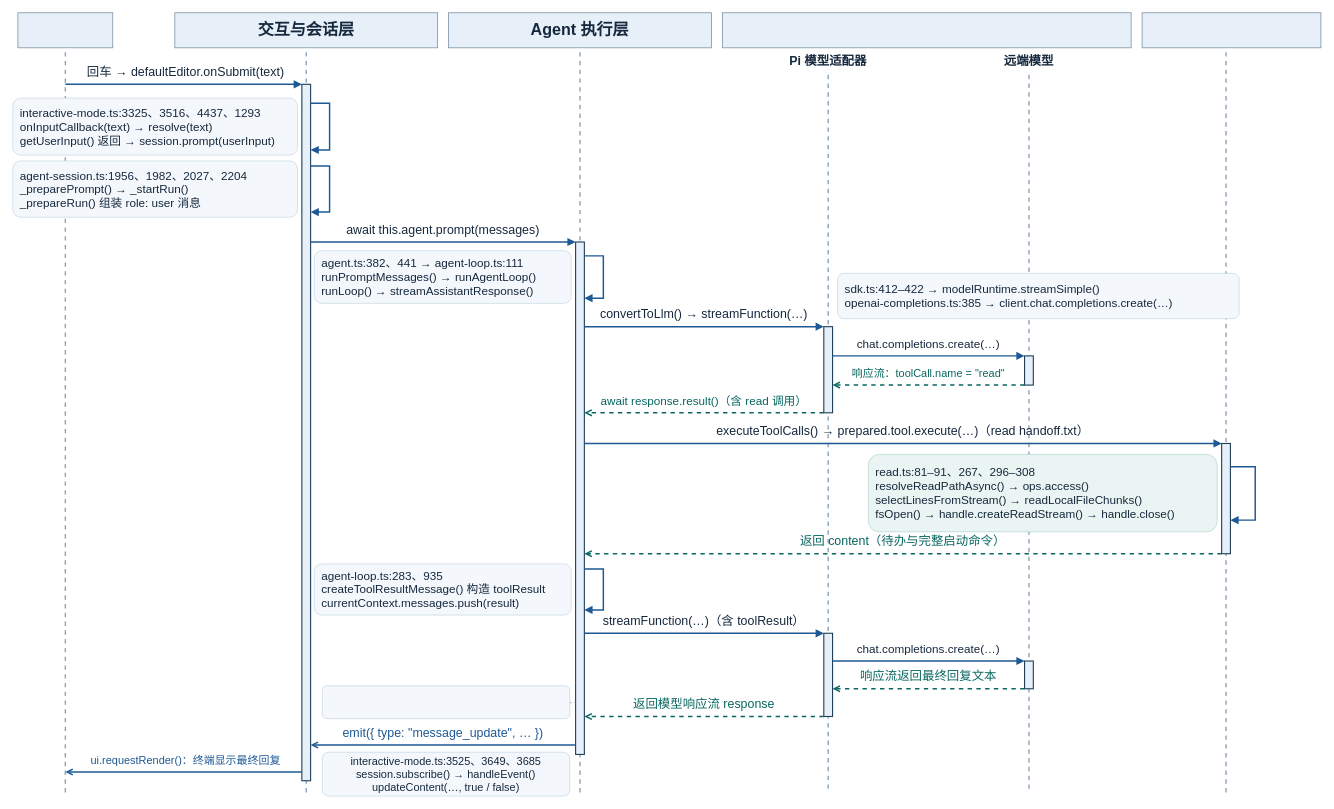
Some shapes in this 1334 by 809 pixel diagram are drawn without their labels. Here are the shapes that lost their labels. From the top down, the centre of each, then its label:
At (x=65, y=30): "用户".
At (x=926, y=30): "模型请求层".
At (x=1231, y=30): "read 工具".
At (x=446, y=702): "agent-loop.ts:426 for await (const event of response)".
